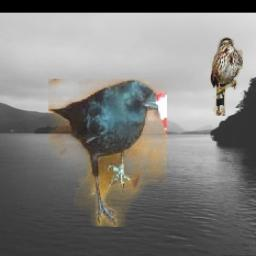Crow: (48, 79, 167, 227)
Sparrow: (210, 38, 243, 117)
